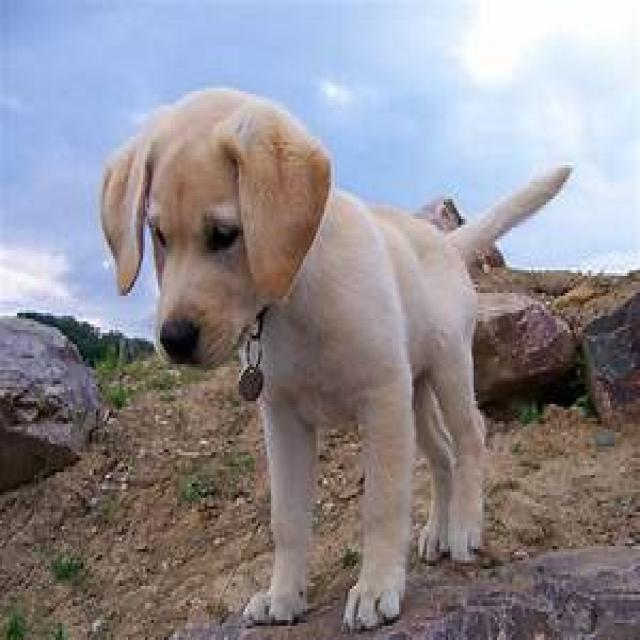dog: (98, 88, 572, 631)
